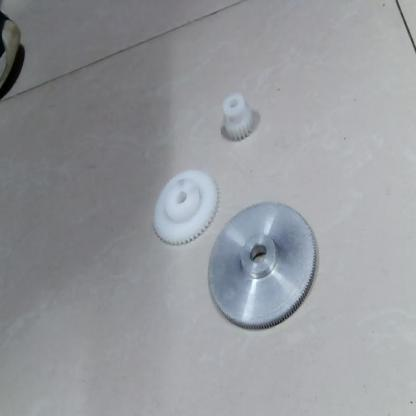FOD: (206, 199, 320, 333), (150, 165, 220, 248), (220, 88, 258, 144)
